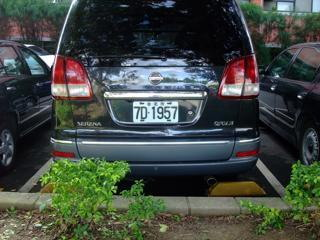plate: (130, 98, 181, 124)
